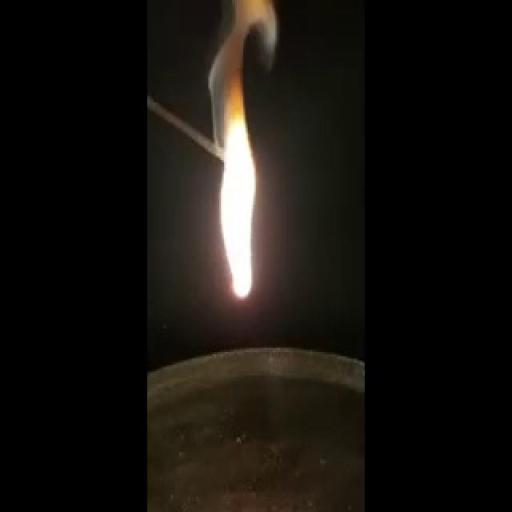smoke: (218, 43, 280, 324)
